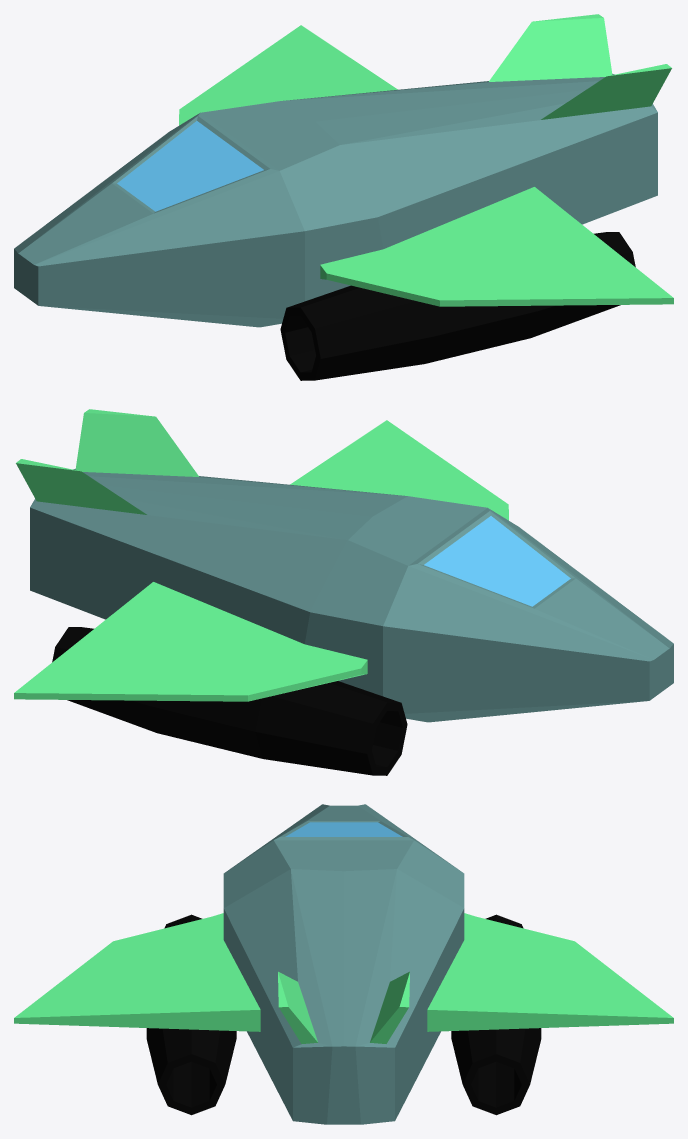
The model's file is explorer2.fbx.
3 views of the same model, one above another, from view 1: azimuth 30°, elevation 25°; view 2: azimuth 150°, elevation 25°; view 3: azimuth 270°, elevation 25° (orthographic). The views are drawn at different scales.
Visible parts, largest first — view 1: Explorer2; view 2: Explorer2; view 3: Explorer2.
Boxes of the visible parts, box(x1,y1,x2,y2) form: Explorer2: box(14, 14, 673, 380); Explorer2: box(14, 409, 673, 775); Explorer2: box(14, 804, 673, 1124).
Size of the model in its own units: 520 by 156 by 549.
